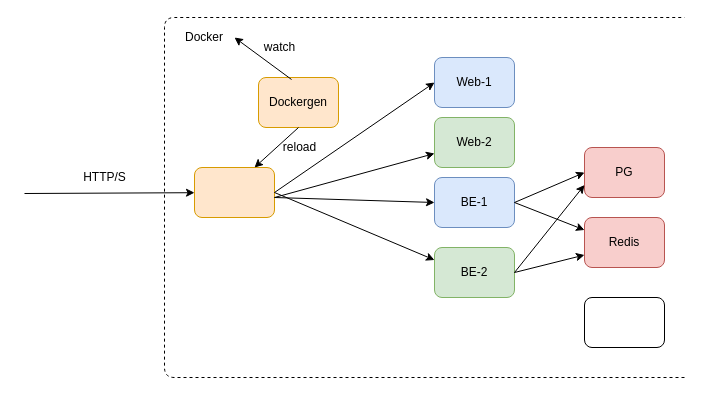
Image size: 703x396. Some labels were removed from this diagram. The shapes that lost their labels are listed below. From the top down, each one's centre as x and y in pixels, then its label:
At pixel 234 192: "Nginx-LB".
At pixel 624 322: "Celery".
